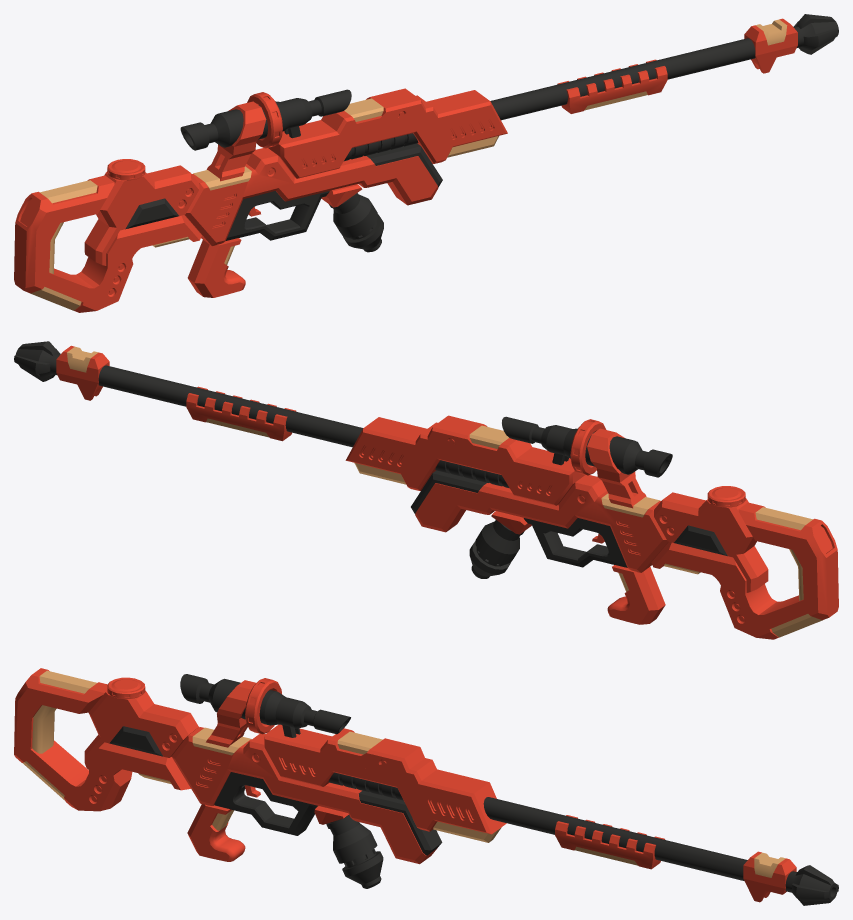
Rendered from levelend_gun.fbx.
3 renders of one model, top to bottom at view 1: azimuth 30°, elevation 25°; view 2: azimuth 150°, elevation 25°; view 3: azimuth 330°, elevation 25°, orthographic.
Parts seen in each view (by area): view 1: Body.034; view 2: Body.034; view 3: Body.034.
Part boxes in pixels (left/top/right/bottom): Body.034: left=14, top=14, right=838, bottom=312; Body.034: left=14, top=341, right=838, bottom=639; Body.034: left=14, top=668, right=838, bottom=905.
Bounding box in the file's own units: 432 × 93.1 × 25.59.
